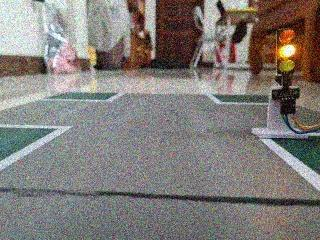yellow: (266, 22, 305, 84)
